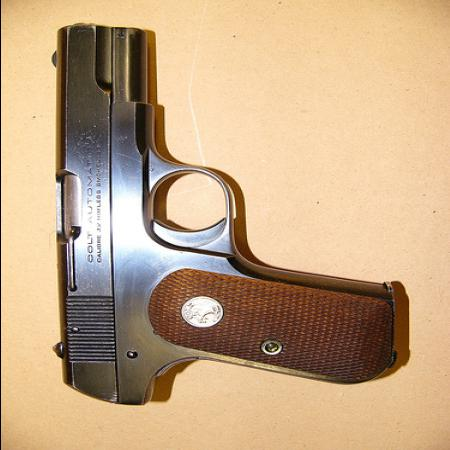Pistol: (46, 25, 392, 407)
